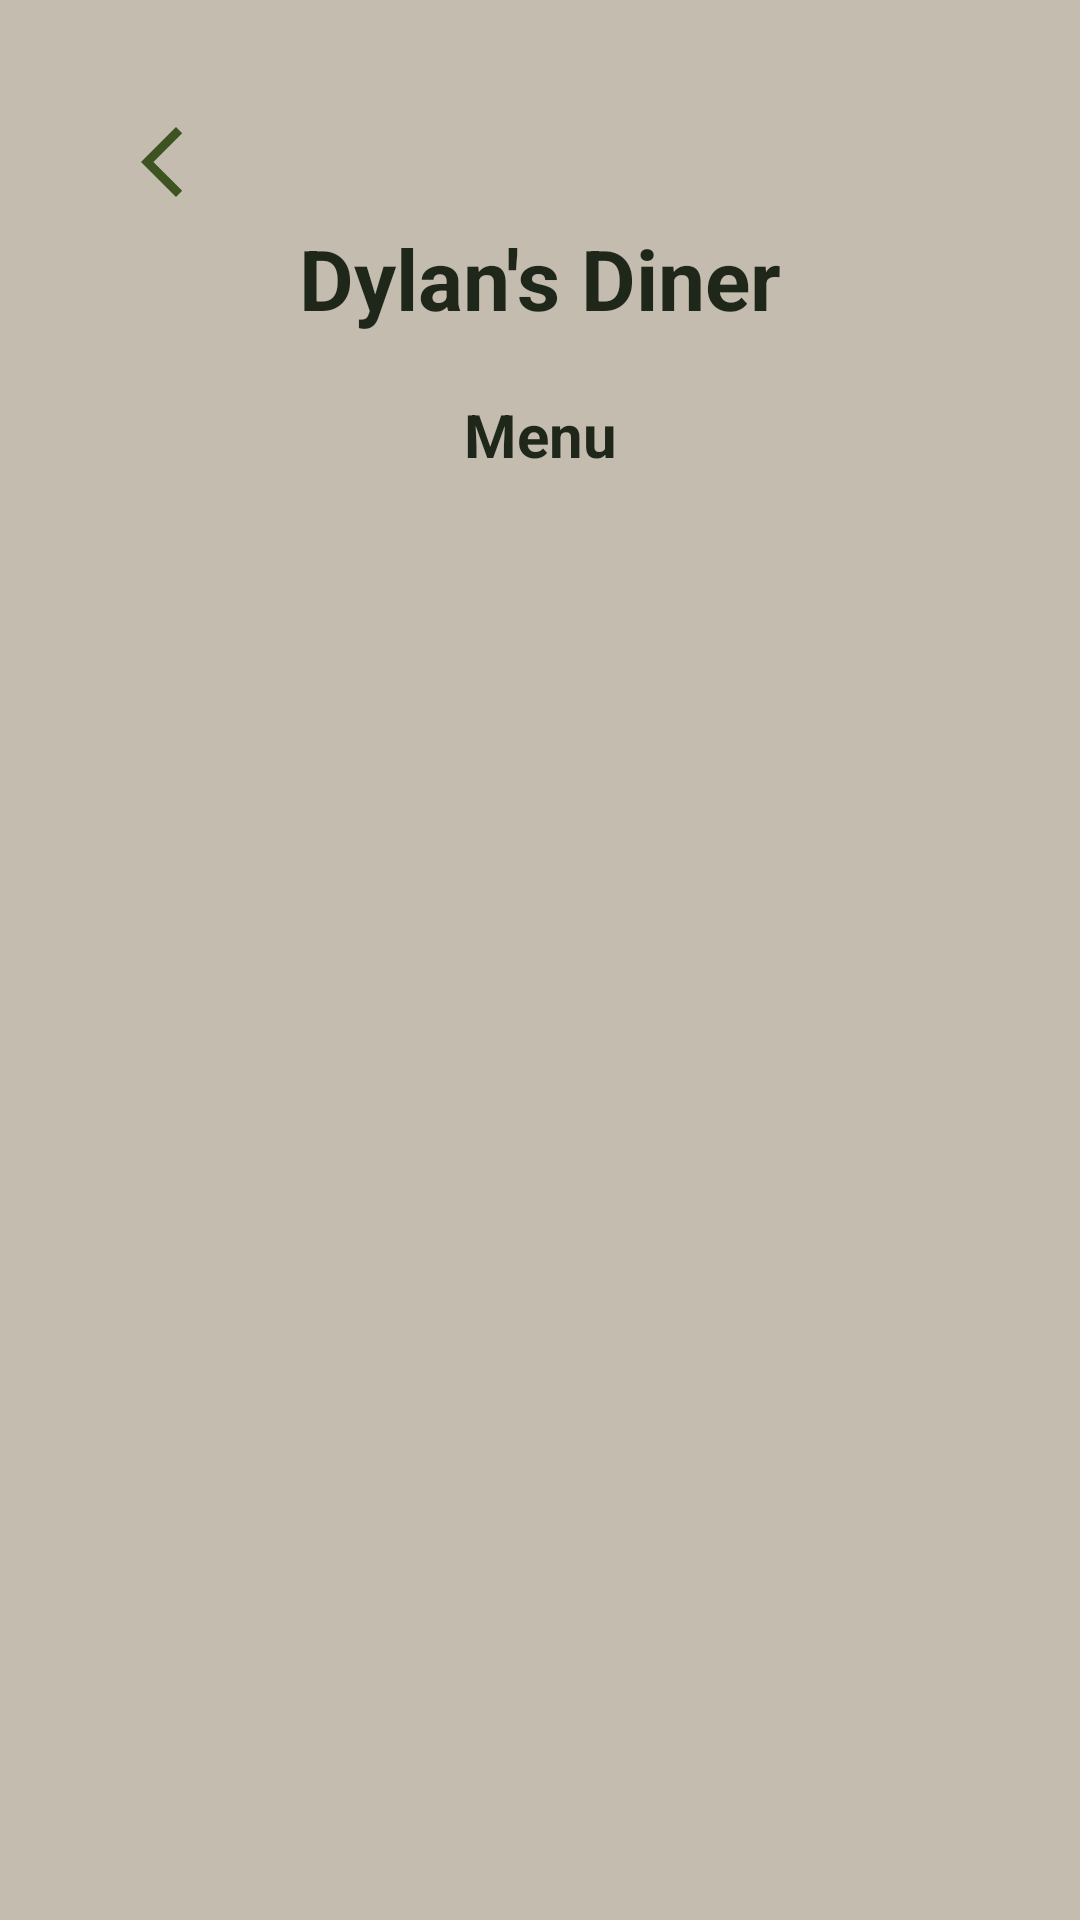

Named icons in this screenshot (1080w x 1920h) and their bounding boxes, (x1, y1, x2, y2):
Back: (141, 127, 182, 197)
